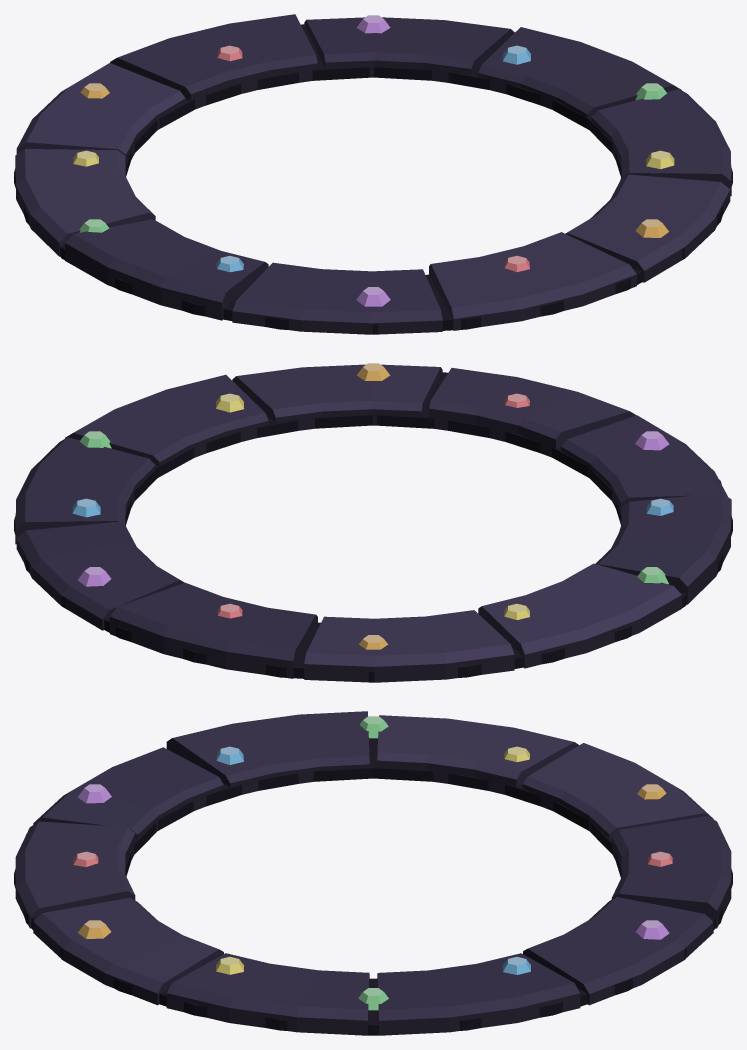
Rendered from habitat_frame_7.fbx.
The picture shows the model from 3 angles, top to bottom: view 1: azimuth 30°, elevation 25°; view 2: azimuth 150°, elevation 25°; view 3: azimuth 270°, elevation 25°; orthographic projection.
Visible parts, largest first — view 1: habitat_frame_7; view 2: habitat_frame_7; view 3: habitat_frame_7.
Boxes of the visible parts, left/top/right/bottom form: habitat_frame_7: left=14, top=14, right=732, bottom=334; habitat_frame_7: left=14, top=363, right=732, bottom=682; habitat_frame_7: left=14, top=711, right=732, bottom=1035.
Bounding box in the file's own units: 7.5 × 0.32 × 7.5.
